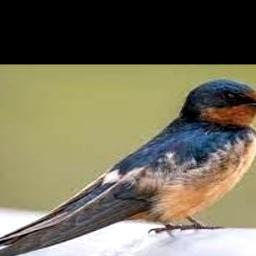Swallow: (0, 78, 256, 256)
